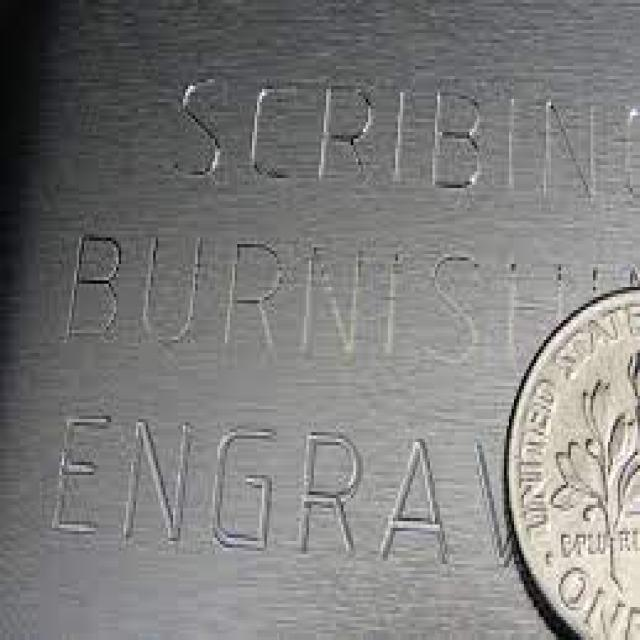ocr: (45, 68, 640, 558)
